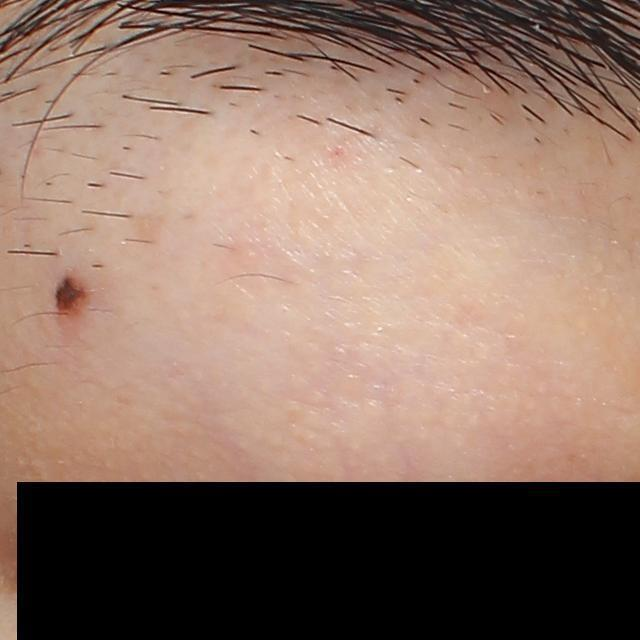nevus: (52, 272, 90, 319)
